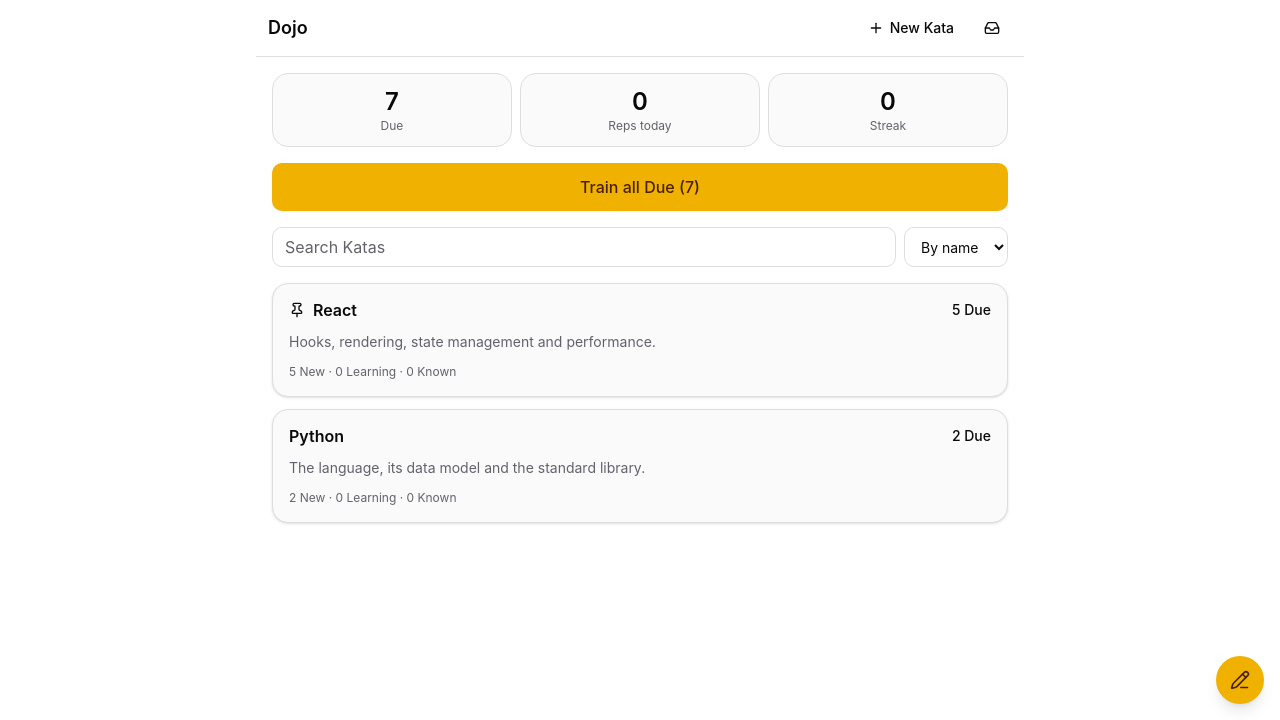
Test: Authoring › shows the Sensei error inside the sheet and keeps it open
Click the button "New Kata" at point(911, 28), box [858,12,964,44]
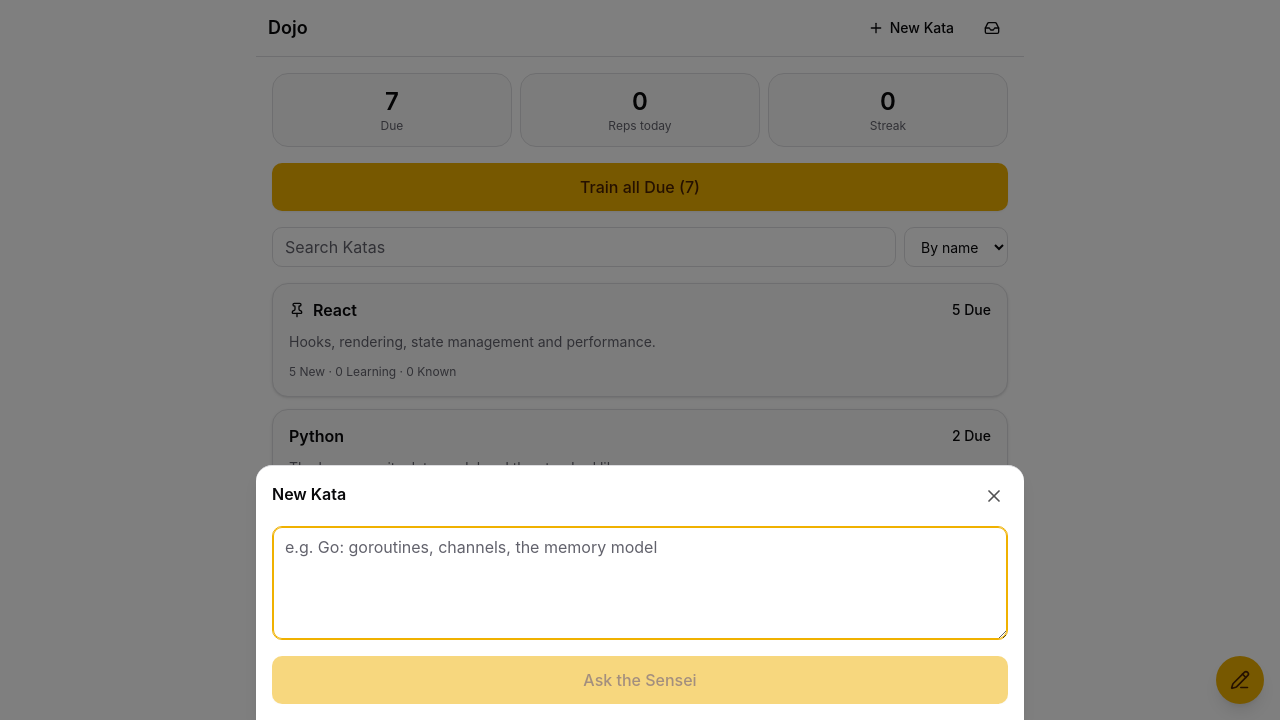
Type "Go" into the text box named "Instruction" at point(640, 583), box [272,526,1008,640]
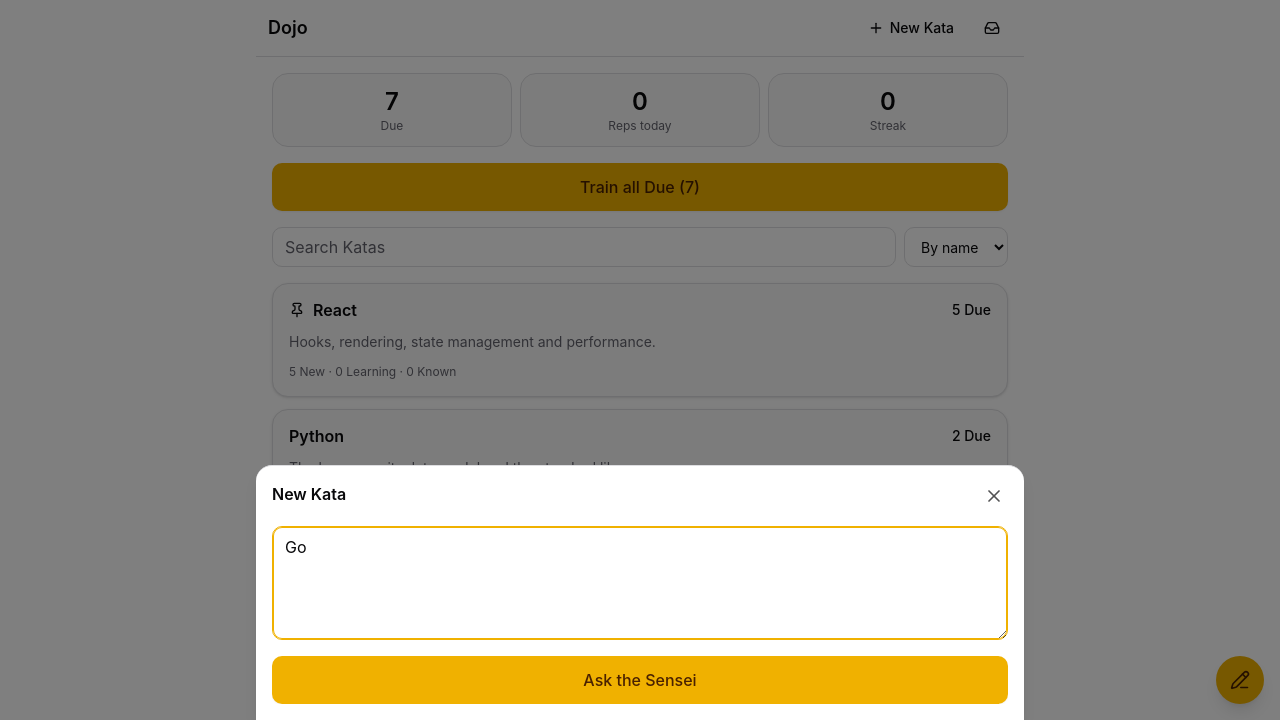
Click the button "Ask the Sensei" at point(640, 680), box [272,656,1008,704]
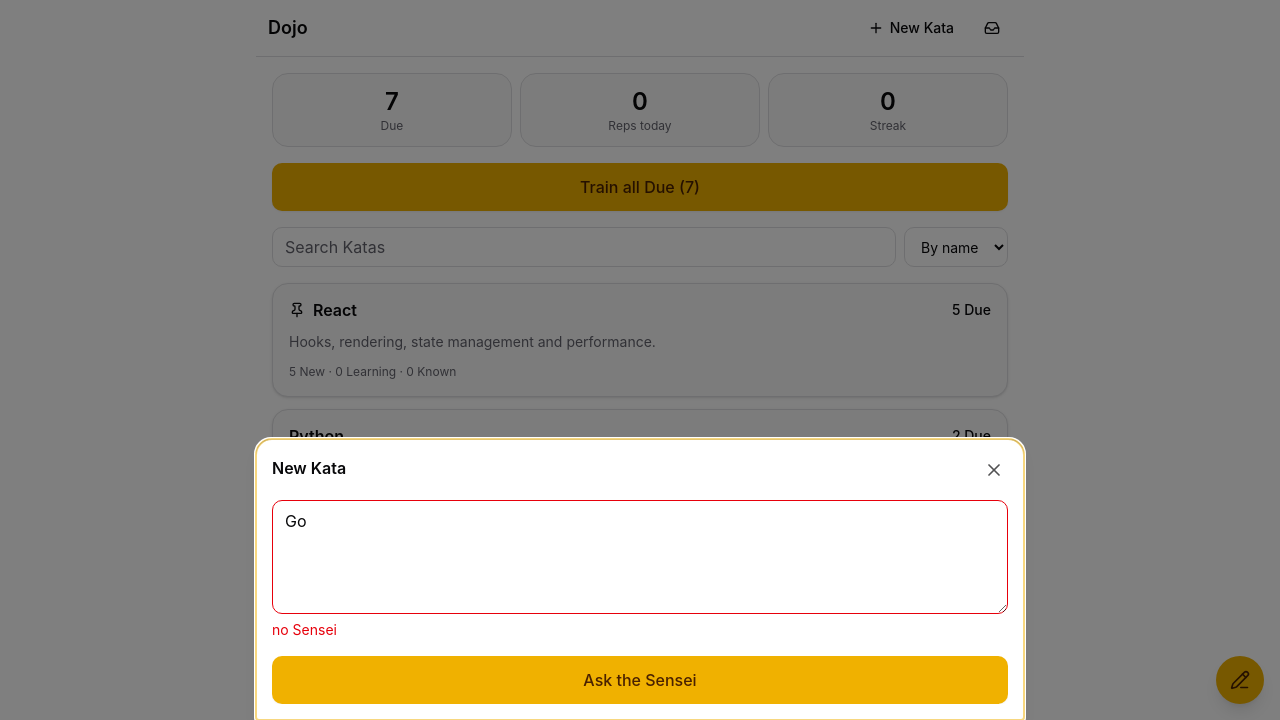
Expected: the message reads "no Sensei", [272,621,337,638]
